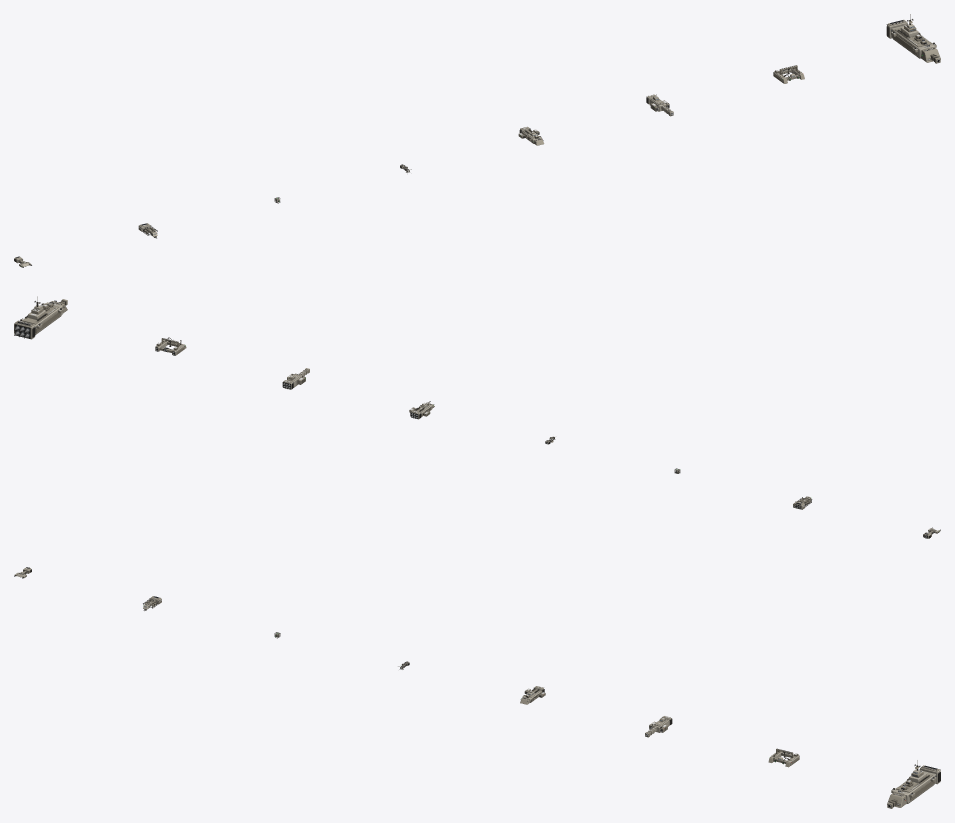
File: foundry.glb
The picture shows the model from 3 angles, top to bottom: view 1: azimuth 30°, elevation 25°; view 2: azimuth 150°, elevation 25°; view 3: azimuth 330°, elevation 25°; orthographic projection.
Parts seen in each view (by area): view 1: craft_frigate; view 2: craft_frigate; view 3: craft_frigate.
Part boxes in pixels (<box>): craft_frigate: <box>886,14,940,63</box>; craft_frigate: <box>14,296,67,339</box>; craft_frigate: <box>887,760,940,808</box>.
Bounding box in the file's own units: 427 × 14.9 × 38.12.
